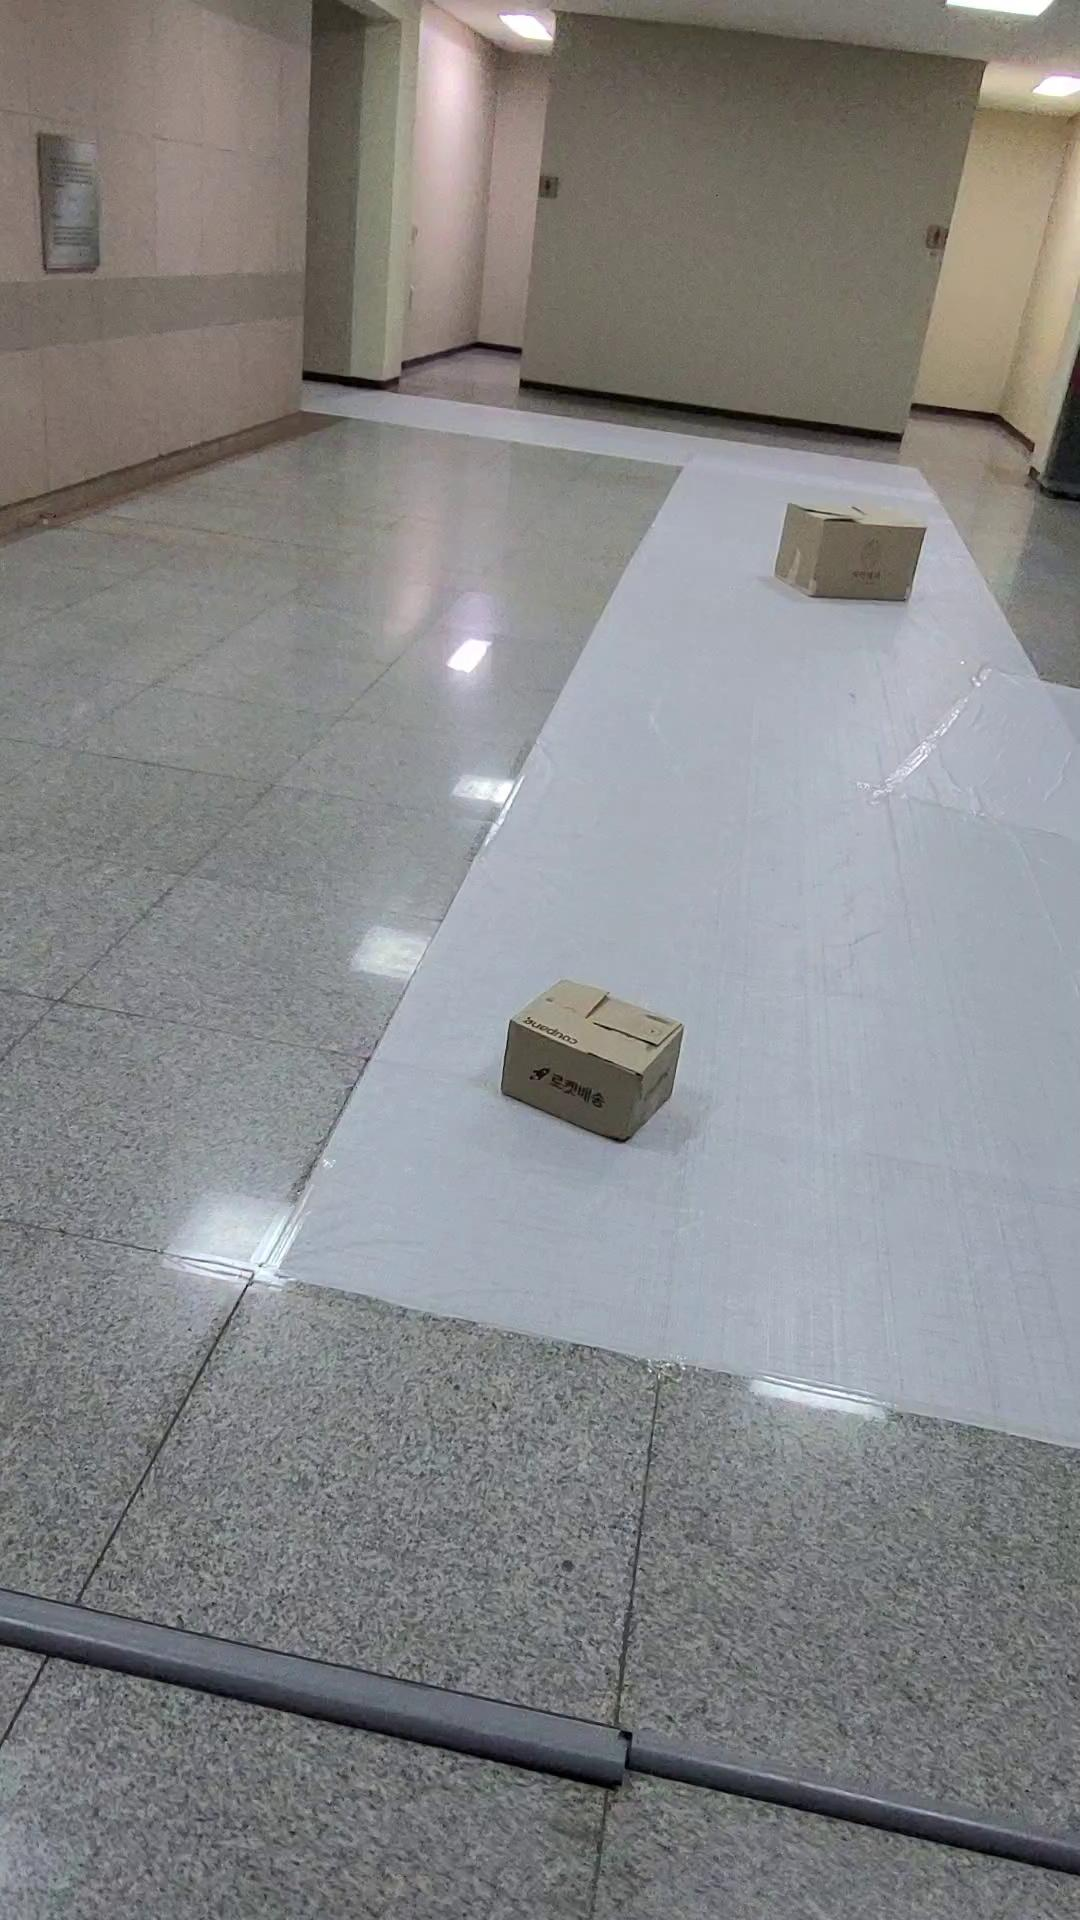Box: (487, 968, 702, 1150), (761, 483, 940, 625)
